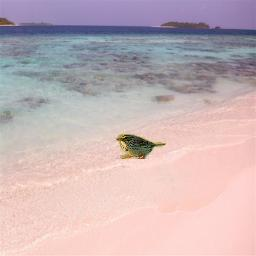Sparrow: (116, 134, 166, 159)
